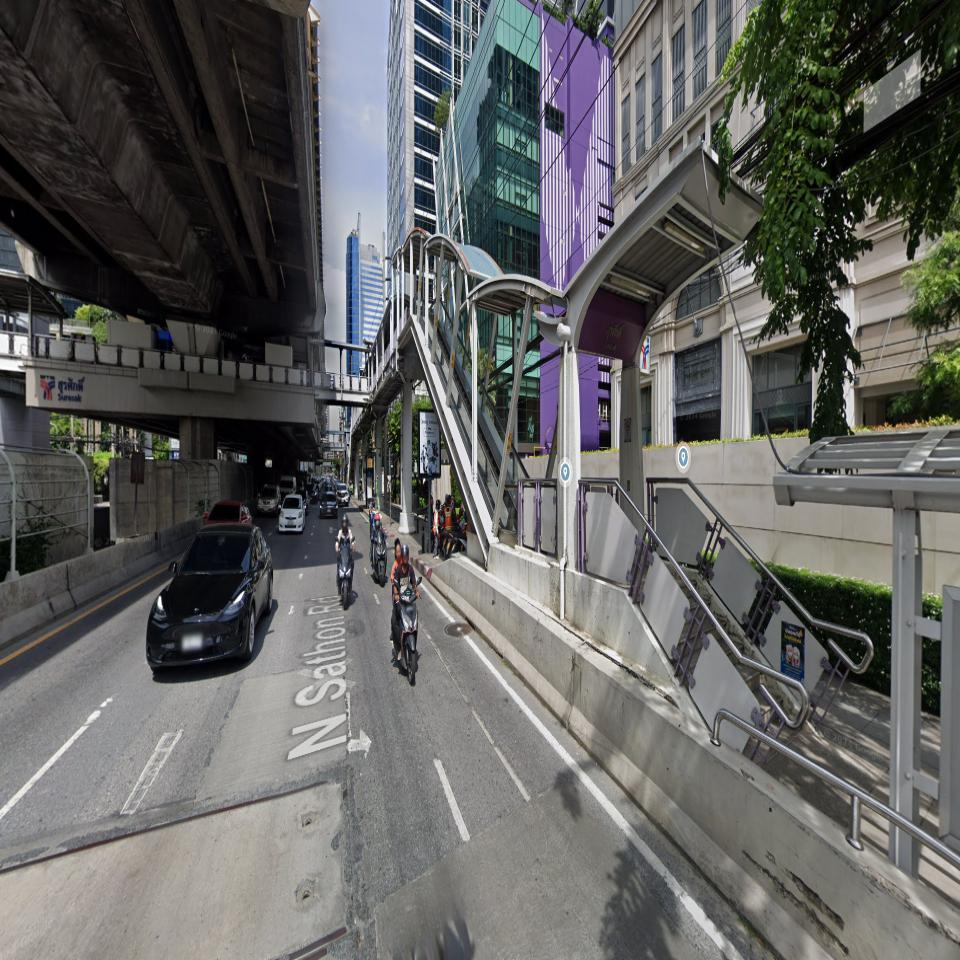signage: (578, 306, 650, 376), (578, 306, 644, 362), (40, 374, 86, 402), (57, 377, 86, 403)
